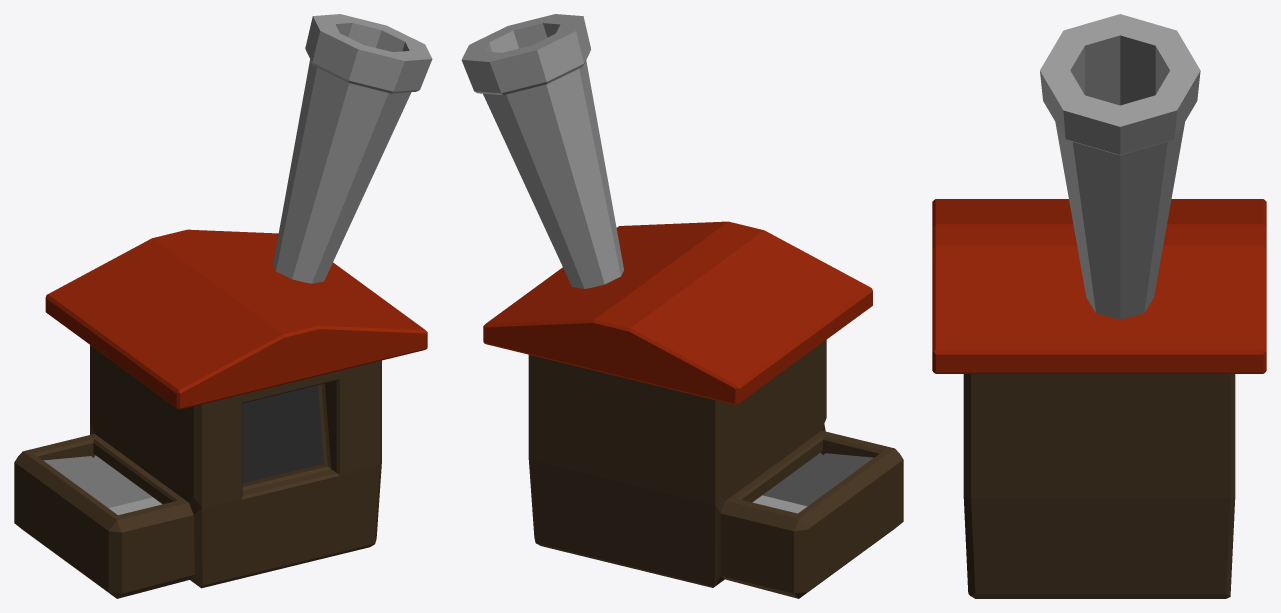
Rendered from MineralShop.fbx.
3 renders of one model, left to right at view 1: azimuth 30°, elevation 25°; view 2: azimuth 150°, elevation 25°; view 3: azimuth 270°, elevation 25°, orthographic. The views are drawn at different scales.
Parts seen in each view (by area): view 1: MineralShop; view 2: MineralShop; view 3: MineralShop.
Part boxes in pixels (x1,y1,x2,y2): MineralShop: (14,14,432,598); MineralShop: (461,14,903,598); MineralShop: (932,14,1266,598).
Size of the model in its own units: 394 by 479 by 246.
